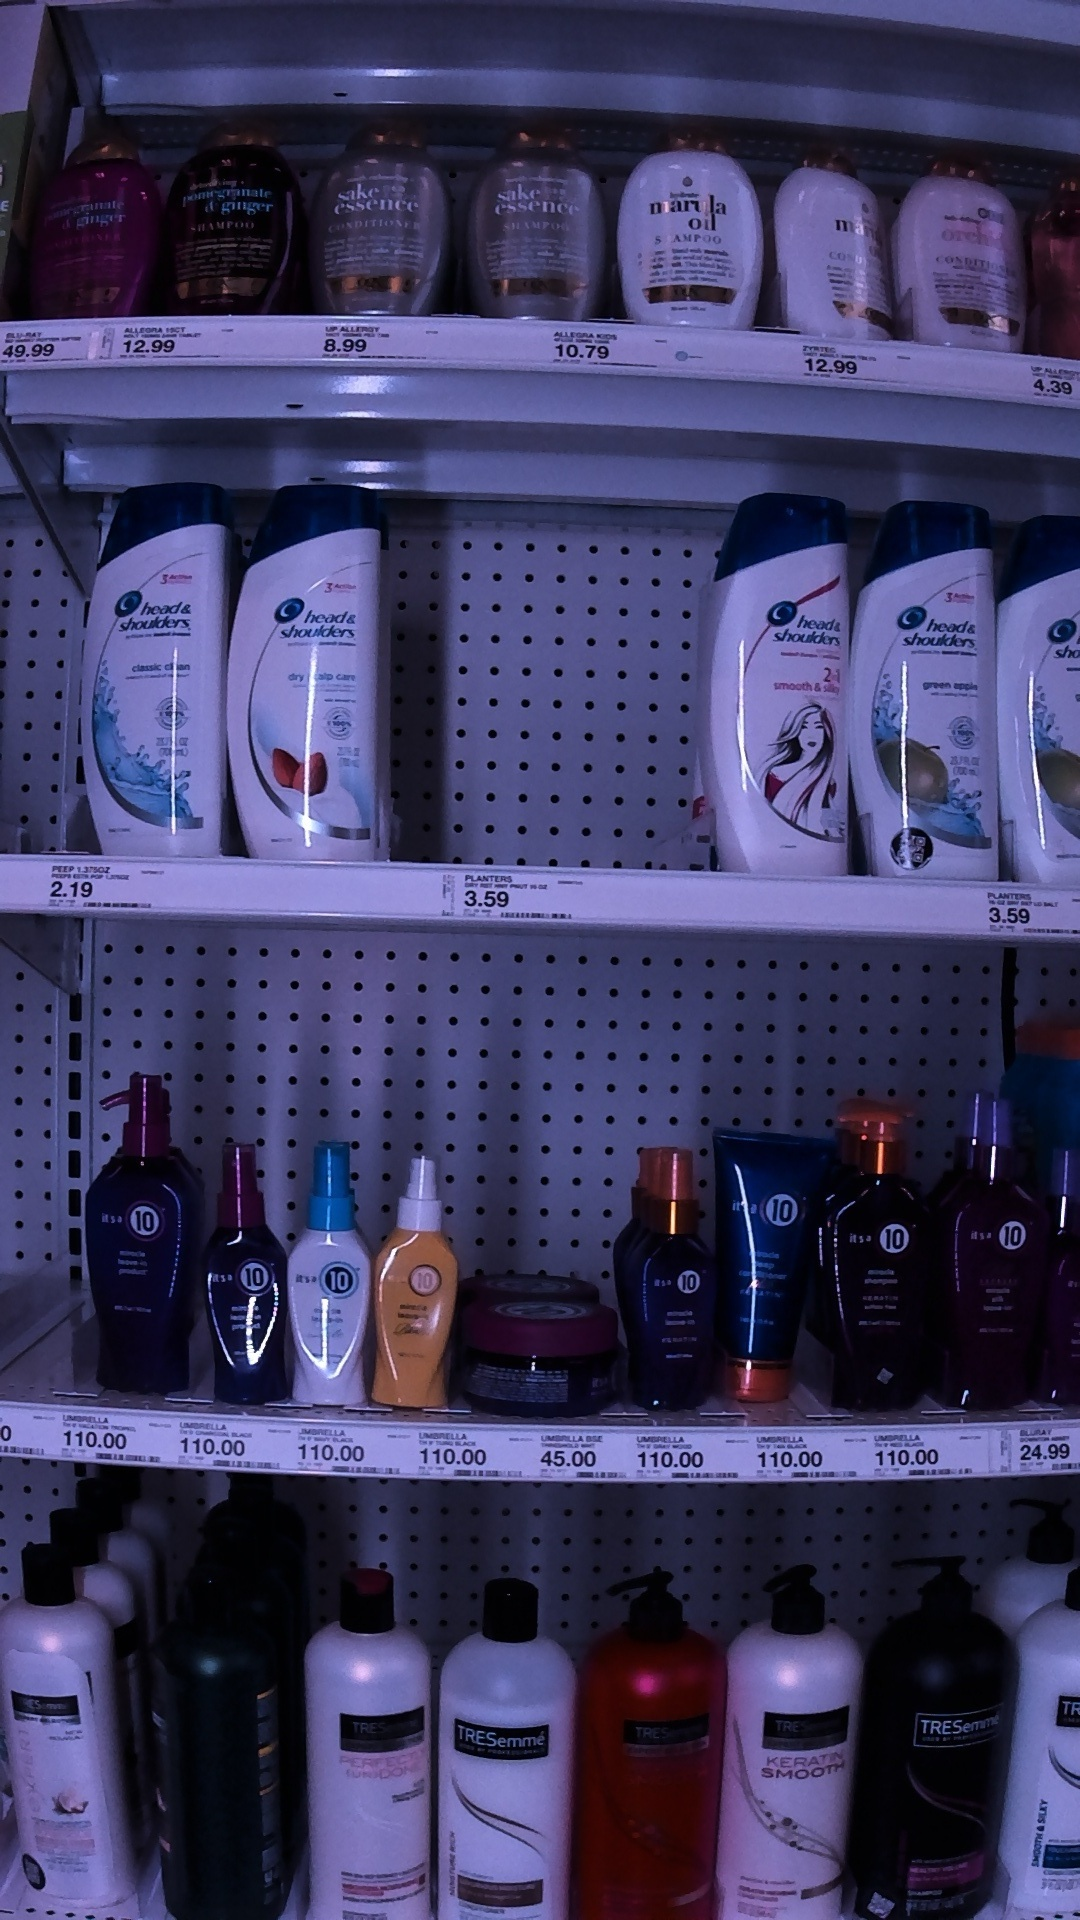ptag: (442, 864, 597, 926), (42, 853, 166, 920), (542, 316, 659, 375), (752, 1425, 858, 1489), (313, 316, 444, 367), (529, 1420, 632, 1484), (287, 1420, 397, 1480), (55, 1402, 162, 1462), (178, 1404, 272, 1473), (791, 334, 905, 389), (984, 877, 1080, 942), (411, 1422, 509, 1484), (872, 1422, 969, 1484), (113, 318, 233, 367), (640, 1425, 738, 1484), (1, 315, 100, 368), (993, 1425, 1080, 1482), (1022, 353, 1080, 405)
